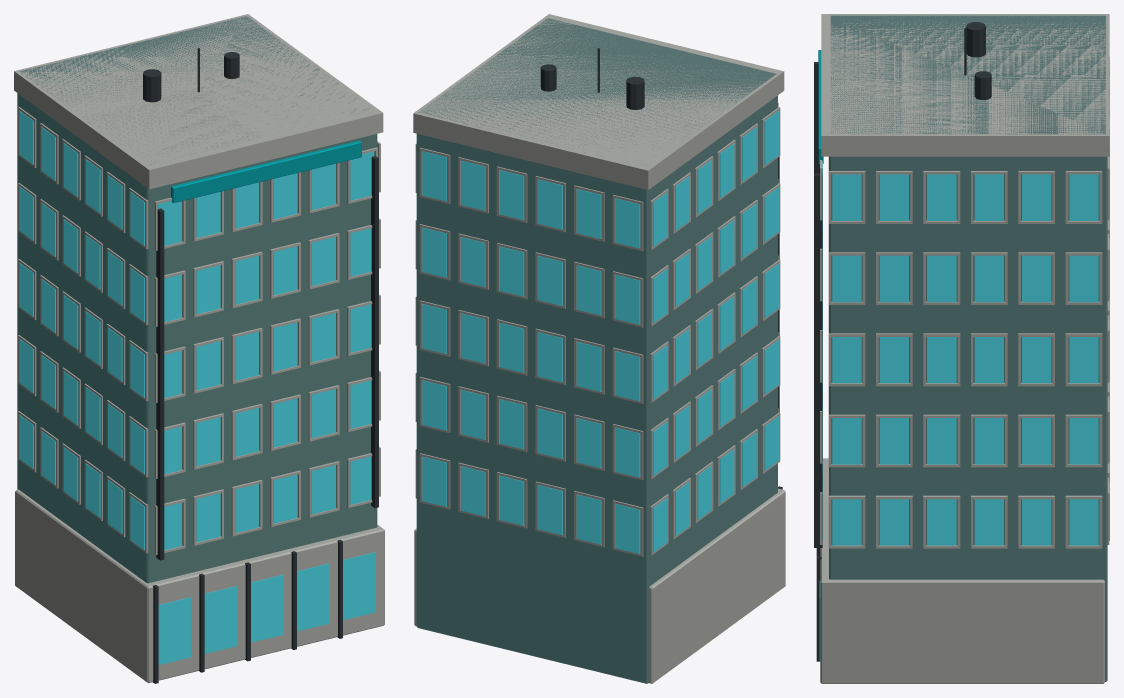
Rendered from JHB_MidRise04_LOD0.fbx.
The picture shows the model from 3 angles, left to right: view 1: azimuth 30°, elevation 25°; view 2: azimuth 150°, elevation 25°; view 3: azimuth 270°, elevation 25°; orthographic projection. The views are drawn at different scales.
Visible parts, largest first — view 1: JHB_MidRise04_LOD0_Concrete, JHB_MidRise04_LOD0_FacadeAtlas, JHB_MidRise04_LOD0_TealGlass, JHB_MidRise04_LOD0_DarkMetal, JHB_MidRise04_LOD0_BlankSignBand; view 2: JHB_MidRise04_LOD0_FacadeAtlas, JHB_MidRise04_LOD0_Concrete, JHB_MidRise04_LOD0_TealGlass, JHB_MidRise04_LOD0_DarkMetal; view 3: JHB_MidRise04_LOD0_FacadeAtlas, JHB_MidRise04_LOD0_Concrete, JHB_MidRise04_LOD0_TealGlass, JHB_MidRise04_LOD0_DarkMetal, JHB_MidRise04_LOD0_BlankSignBand.
Part boxes in pixels (left/top/right/bottom): JHB_MidRise04_LOD0_Concrete: left=14, top=14, right=384, bottom=683; JHB_MidRise04_LOD0_FacadeAtlas: left=17, top=16, right=377, bottom=583; JHB_MidRise04_LOD0_TealGlass: left=19, top=110, right=377, bottom=664; JHB_MidRise04_LOD0_DarkMetal: left=143, top=48, right=378, bottom=683; JHB_MidRise04_LOD0_BlankSignBand: left=171, top=140, right=361, bottom=202; JHB_MidRise04_LOD0_FacadeAtlas: left=416, top=18, right=777, bottom=683; JHB_MidRise04_LOD0_Concrete: left=413, top=14, right=785, bottom=683; JHB_MidRise04_LOD0_TealGlass: left=422, top=111, right=778, bottom=553; JHB_MidRise04_LOD0_DarkMetal: left=540, top=48, right=782, bottom=489; JHB_MidRise04_LOD0_FacadeAtlas: left=829, top=15, right=1107, bottom=681; JHB_MidRise04_LOD0_Concrete: left=820, top=14, right=1109, bottom=683; JHB_MidRise04_LOD0_TealGlass: left=819, top=57, right=1109, bottom=661; JHB_MidRise04_LOD0_DarkMetal: left=814, top=22, right=991, bottom=661; JHB_MidRise04_LOD0_BlankSignBand: left=818, top=50, right=823, bottom=164.
Size of the model in its own units: 8.25 by 18.45 by 8.32.
Materials: 5 (1 with a texture image).
